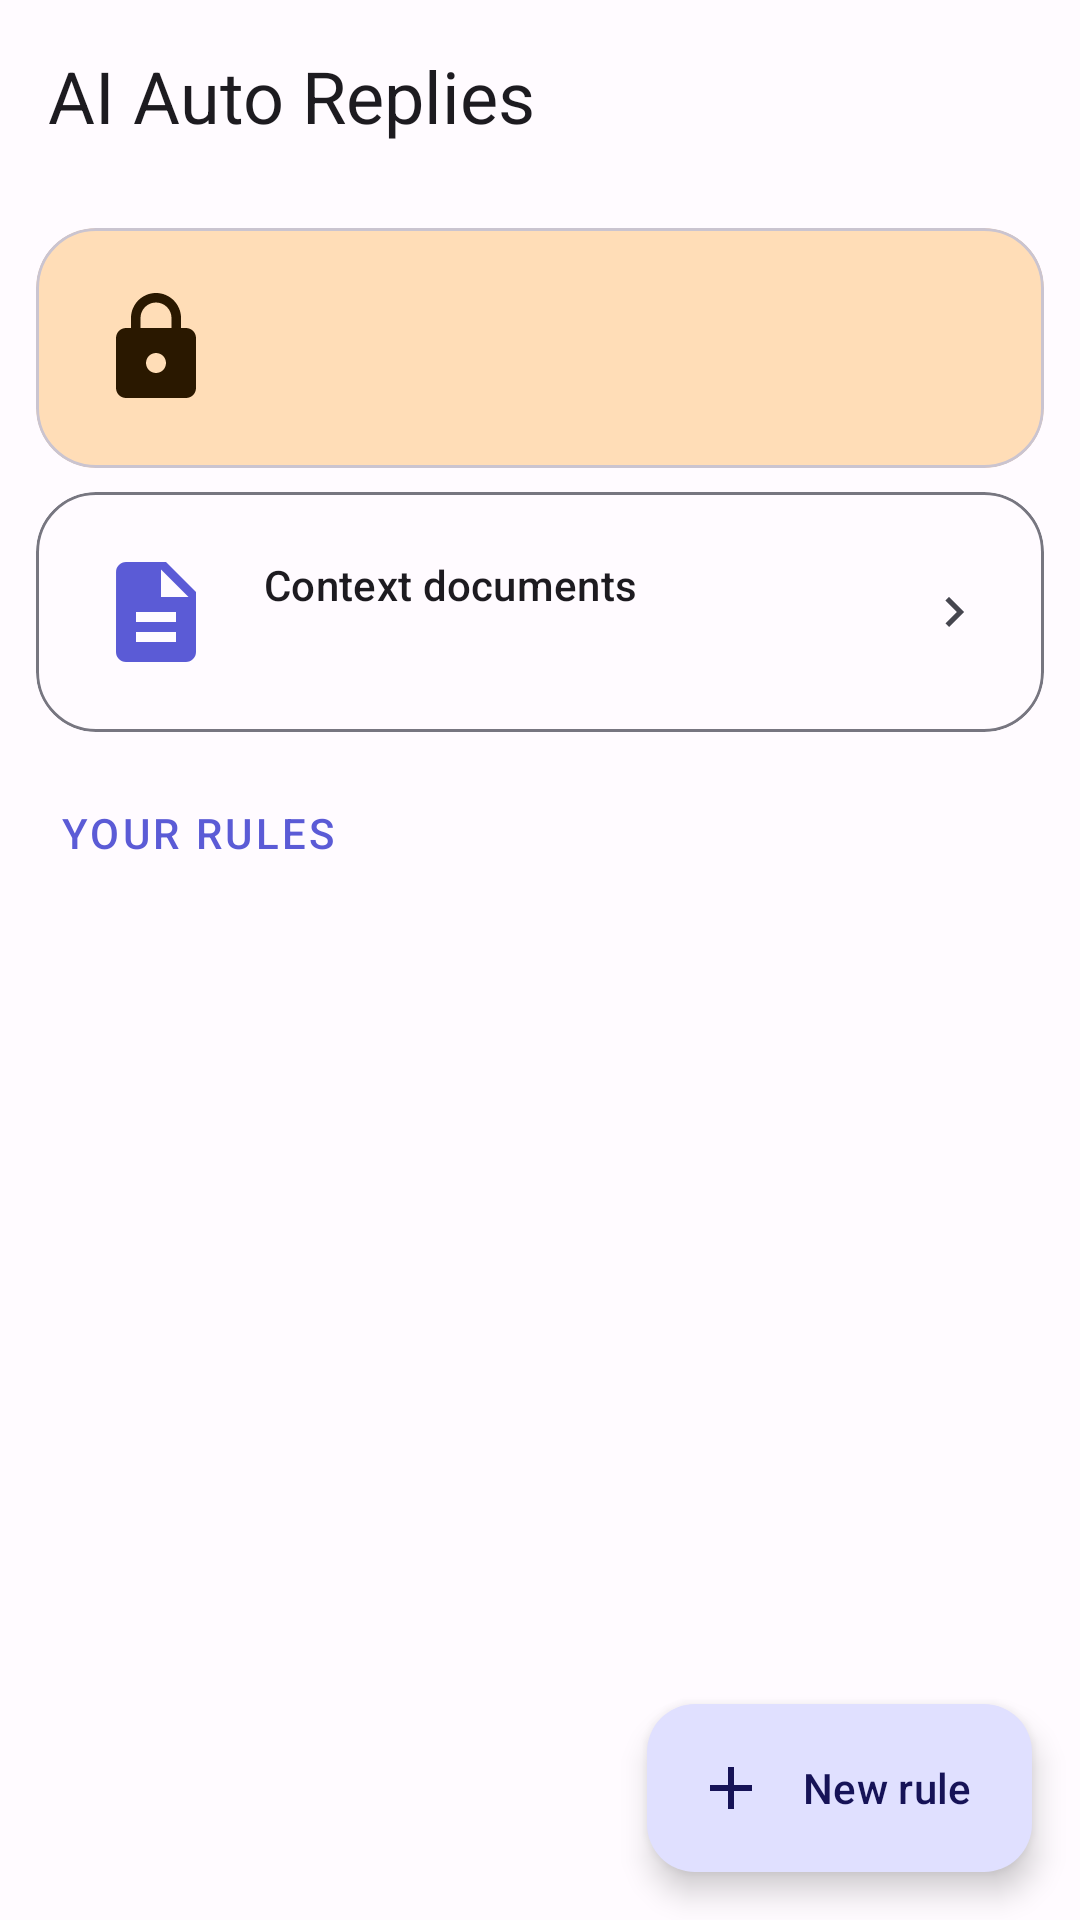

Icon click points for this 1080×1920 phone screenshot, format (x,y):
chevron right: (954,612)
lock: (156,345)
